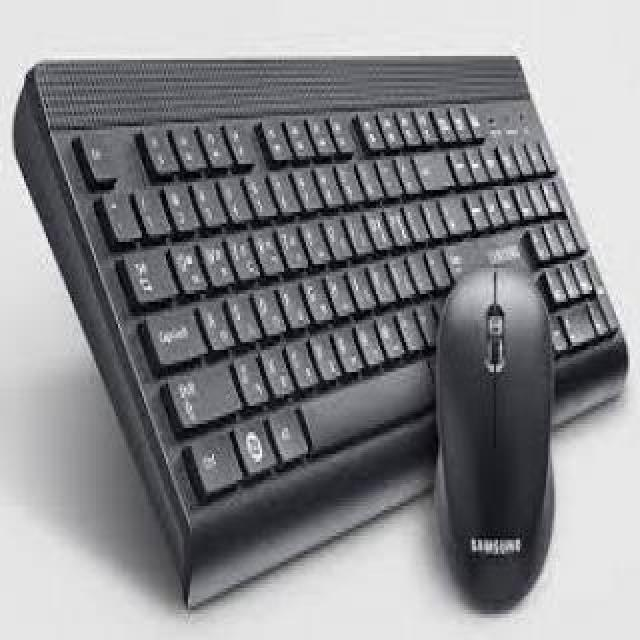mouse: (434, 232, 584, 613)
